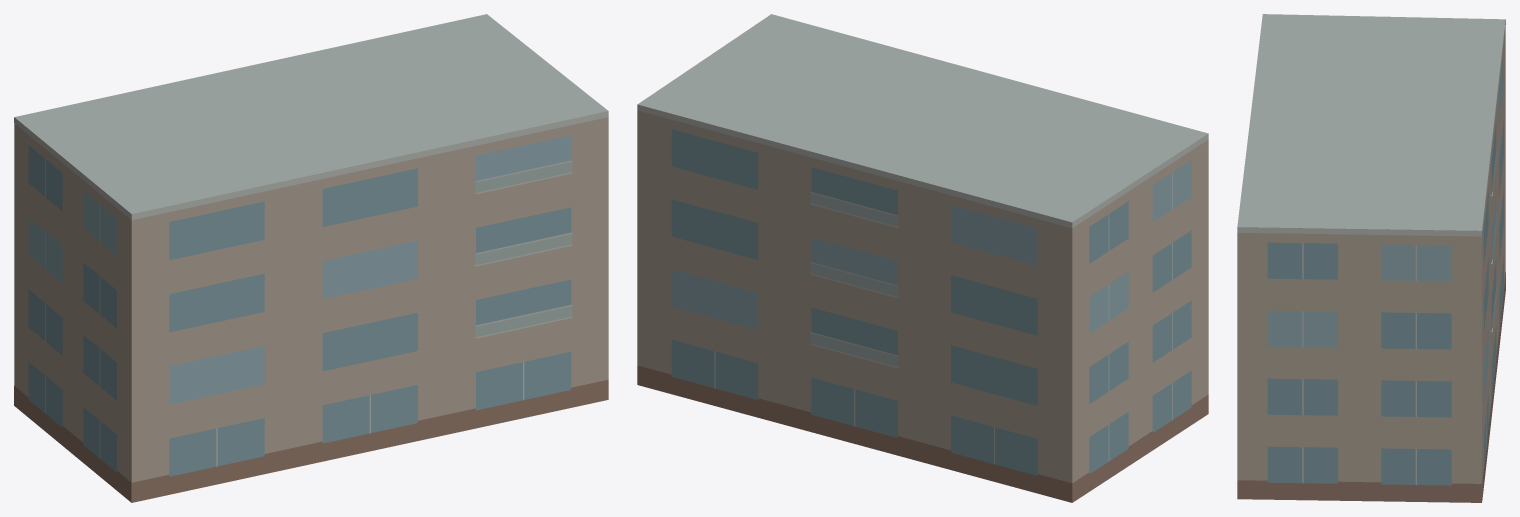
The model's file is survey-upis-32916071.glb.
The picture shows the model from 3 angles, left to right: view 1: azimuth 30°, elevation 25°; view 2: azimuth 150°, elevation 25°; view 3: azimuth 270°, elevation 25°; orthographic projection. The views are drawn at different scales.
Parts seen in each view (by area): view 1: survey-upis-32916071.tmp; view 2: survey-upis-32916071.tmp; view 3: survey-upis-32916071.tmp.
Part boxes in pixels (bbox=[...]): survey-upis-32916071.tmp: bbox=[14, 14, 608, 502]; survey-upis-32916071.tmp: bbox=[637, 14, 1208, 502]; survey-upis-32916071.tmp: bbox=[1237, 14, 1505, 502].
Bounding box in the file's own units: 20.01 × 11.7 × 10.47.
